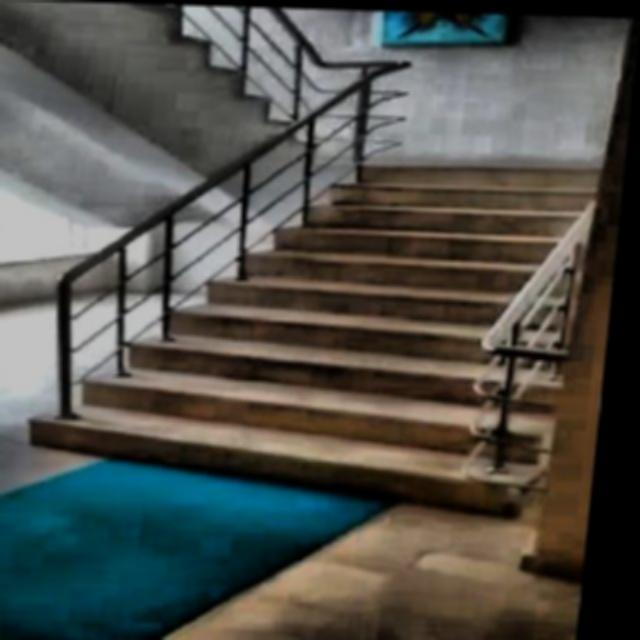stair: (37, 126, 617, 517)
